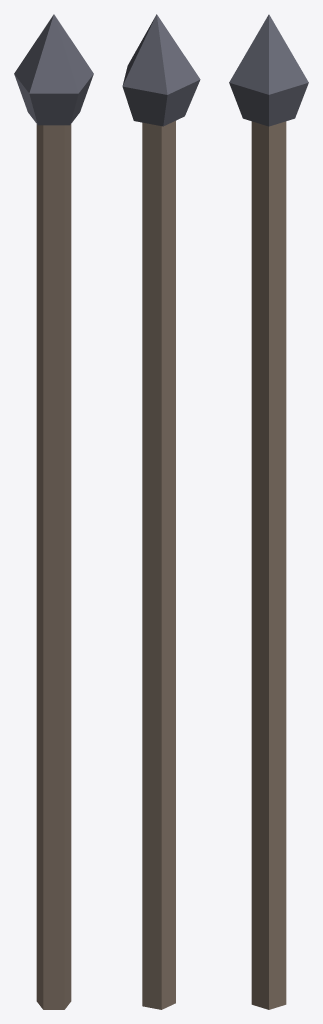
The model's file is ARROW_BIG_CROSSBOW.fbx.
3 views of the same model, side by side, from view 1: azimuth 90°, elevation 25°; view 2: azimuth 210°, elevation 25°; view 3: azimuth 270°, elevation 25° (orthographic).
Visible parts, largest first — view 1: ARROW; view 2: ARROW; view 3: ARROW.
Boxes of the visible parts, box(x1,y1,x2,y2) form: ARROW: box(14, 14, 93, 1009); ARROW: box(122, 14, 200, 1009); ARROW: box(229, 14, 308, 1009).
Size of the model in its own units: 14.97 by 215 by 15.74.
